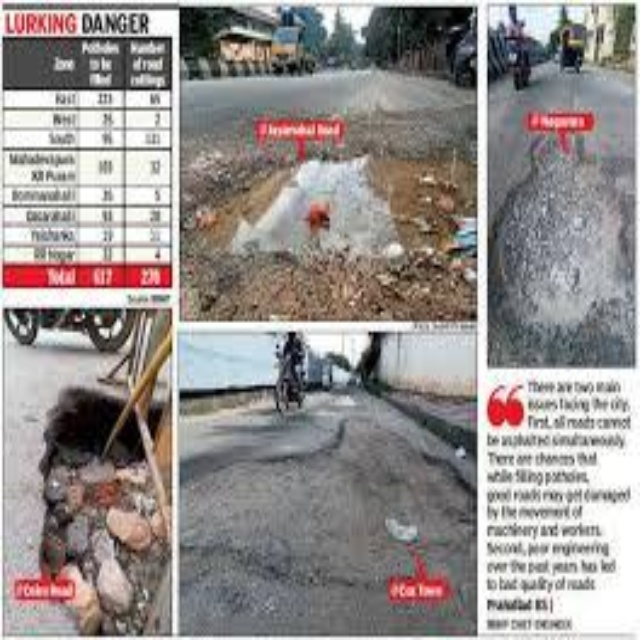pothole: (478, 94, 633, 640)
